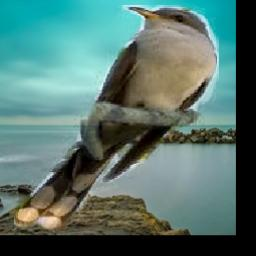Cuckoo: (14, 6, 219, 230)
